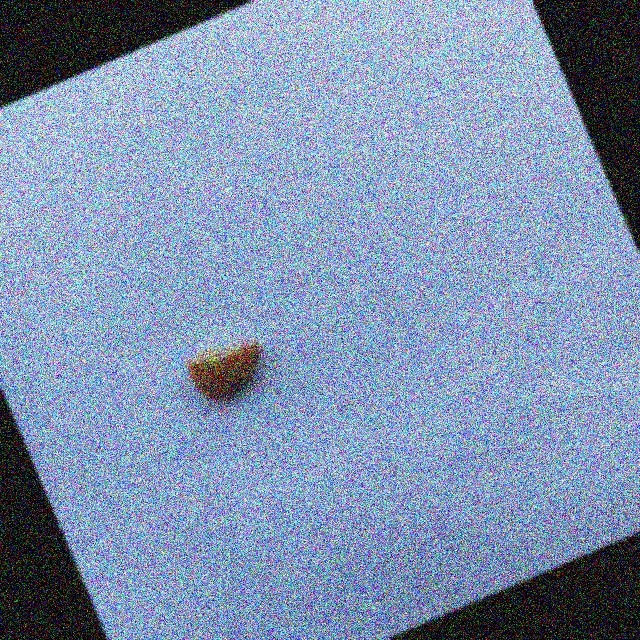grade4: (176, 323, 284, 416)
